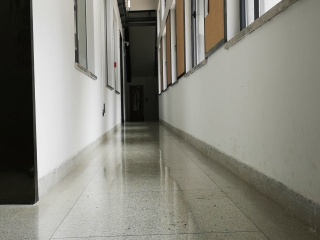room: (1, 4, 42, 204)
